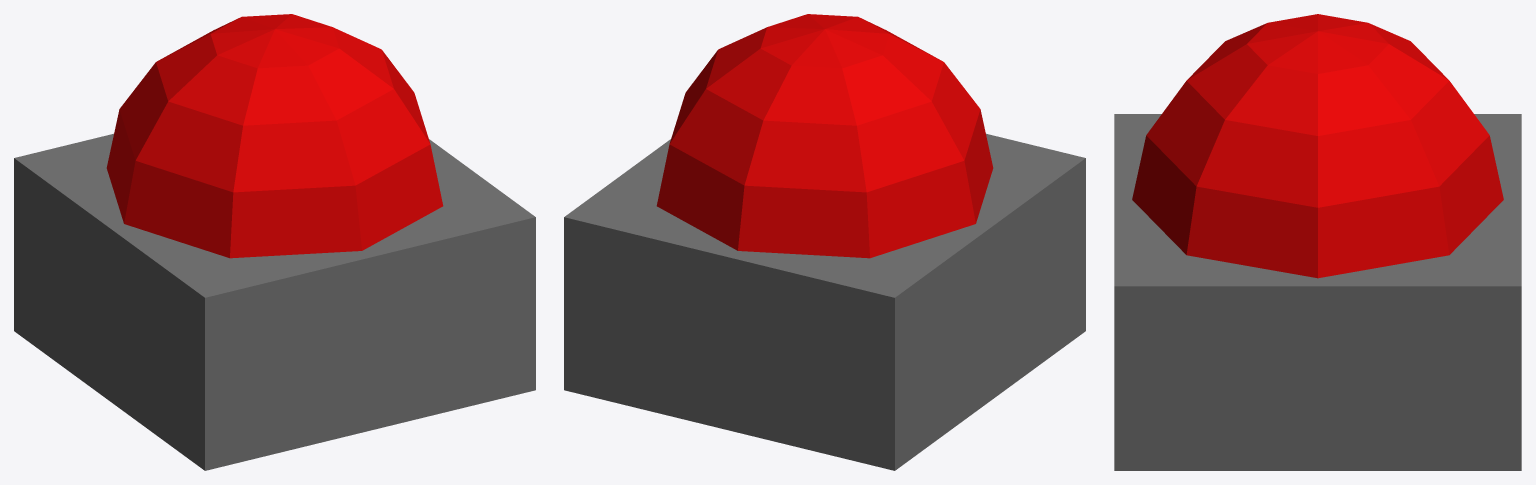
The model's file is engineBtn.fbx.
3 views of the same model, side by side, from view 1: azimuth 30°, elevation 25°; view 2: azimuth 150°, elevation 25°; view 3: azimuth 270°, elevation 25° (orthographic). The views are drawn at different scales.
Visible parts, largest first — view 1: Base, Button; view 2: Base, Button; view 3: Base, Button.
Part boxes in pixels (left/top/right/bottom): Base: left=14, top=133, right=535, bottom=470; Button: left=106, top=14, right=443, bottom=258; Base: left=564, top=133, right=1085, bottom=470; Button: left=656, top=14, right=993, bottom=258; Base: left=1114, top=114, right=1521, bottom=470; Button: left=1132, top=14, right=1503, bottom=278.
Size of the model in its own units: 20 by 19.15 by 20.
